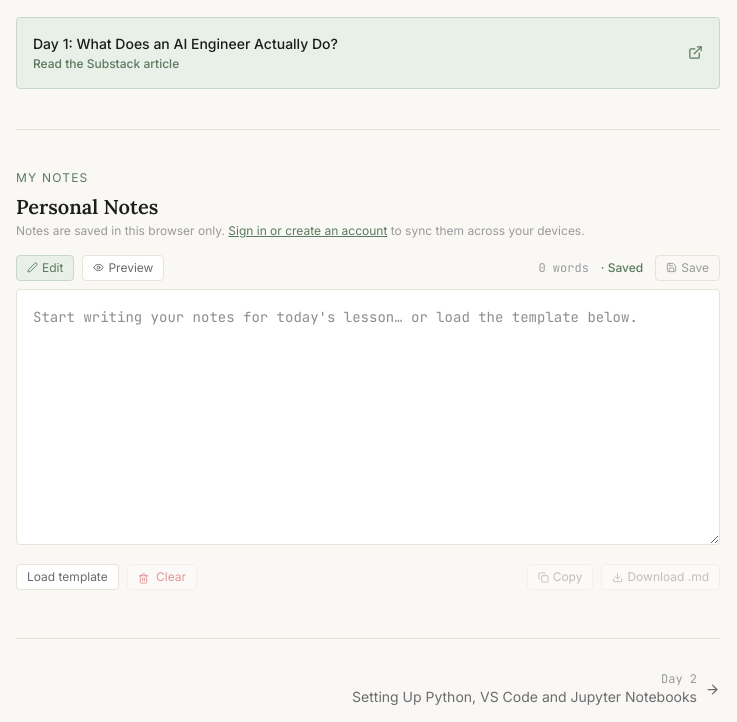
Test: Notes Flow and Safe Markdown Rendering › updates word count and marks unsaved when typing
(page scrolled)
Replace the text in the text box with placeholder "Start writing your notes for today's lesson" with "Learning Python list comprehensions and generators" at (368, 417), box [16,289,720,545]
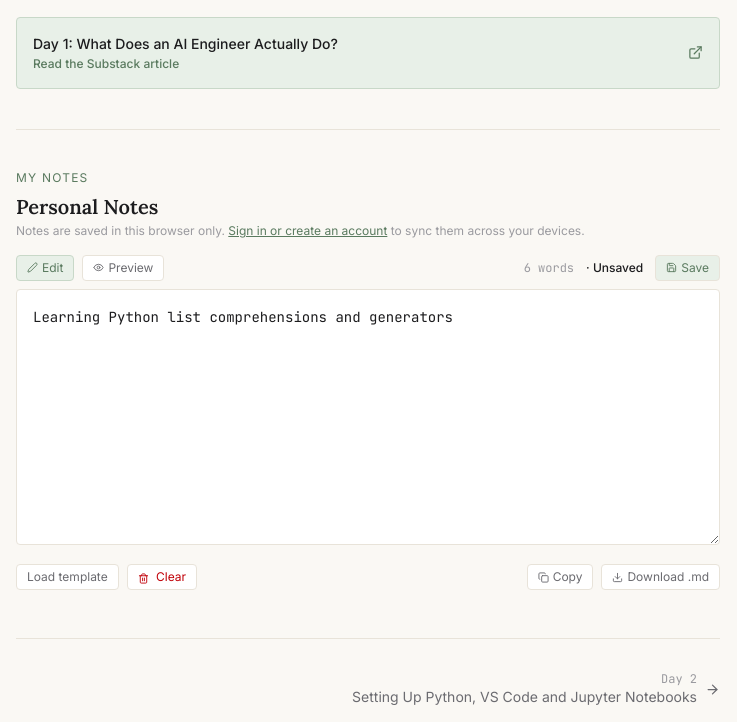
Expected: the text "6 words" is shown, [524,260,574,276]
Expected: the text "· Unsaved" is shown, [586,260,643,276]
